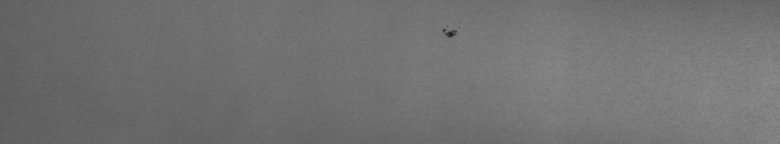fi: (441, 23, 461, 44)
